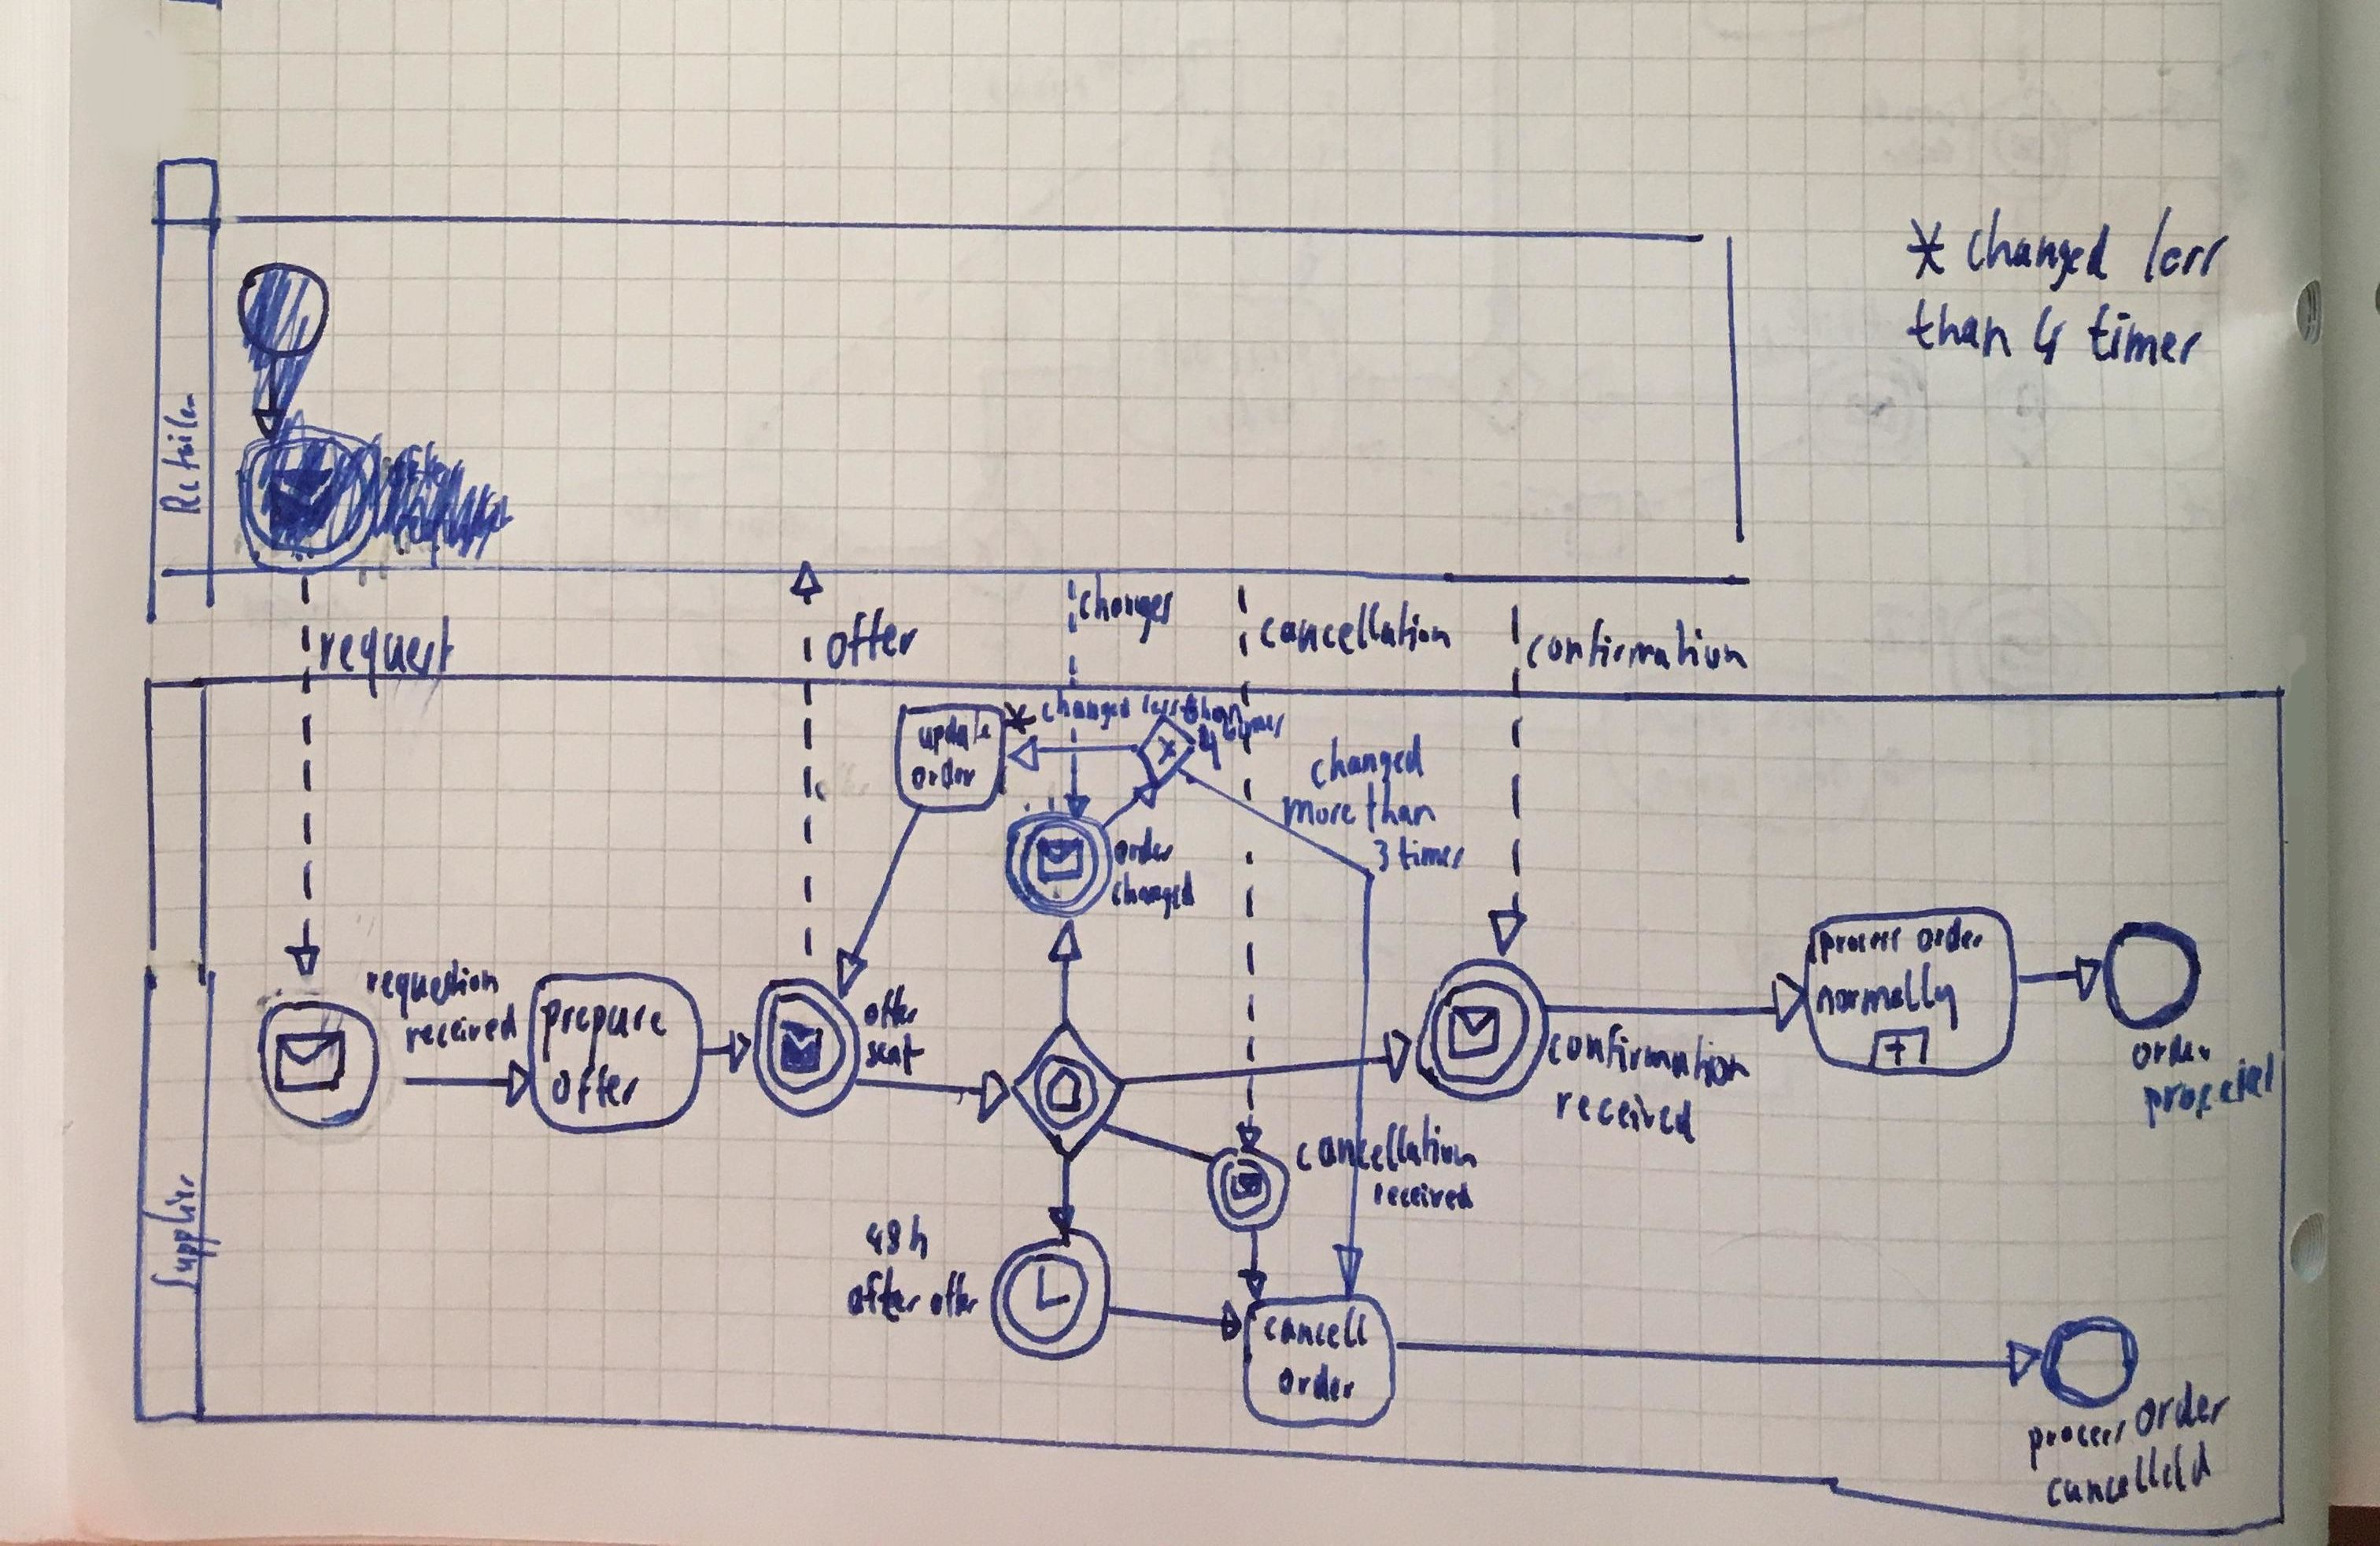*: (1903, 212, 1953, 293)
/err: (2123, 212, 2226, 290)
3: (1370, 833, 1393, 875)
4: (2028, 300, 2066, 373), (1193, 718, 1223, 781)
48h: (860, 1215, 932, 1260)
Order: (1272, 1360, 1358, 1407), (2130, 1031, 2210, 1074)
Prepare: (539, 998, 668, 1045)
Retailer: (156, 385, 205, 519)
Supplier: (149, 1178, 210, 1301)
after: (847, 1265, 919, 1319)
cancell: (1258, 1308, 1372, 1352)
cancellation: (1291, 1116, 1483, 1178), (1259, 599, 1455, 654)
cancelleld: (2042, 1435, 2219, 1515)
changed: (1962, 212, 2109, 281), (1311, 734, 1426, 783), (1102, 869, 1199, 914), (1039, 691, 1133, 725)
changes: (1077, 569, 1178, 628)
confirmation: (1549, 1020, 1752, 1086), (1528, 614, 1750, 670)
less: (1134, 691, 1183, 722)
more: (1285, 791, 1353, 831)
normally: (1816, 977, 1957, 1015)
offer: (819, 611, 919, 671), (555, 1058, 638, 1114), (921, 1270, 978, 1324), (864, 986, 923, 1025)
order: (2128, 1383, 2233, 1433), (1915, 918, 1986, 958), (907, 757, 978, 793), (1114, 826, 1174, 866)
process: (2017, 1414, 2128, 1458), (1814, 920, 1910, 965)
processed: (2137, 1050, 2290, 1128)
received: (1547, 1086, 1703, 1145), (402, 1003, 515, 1057), (1370, 1178, 1478, 1215)
request: (305, 619, 456, 678)
requestion: (357, 960, 501, 1010)
sent: (859, 1032, 921, 1076)
than: (1901, 292, 2016, 368), (1360, 791, 1436, 833), (1181, 689, 1240, 722)
timer: (2085, 298, 2203, 368)
times: (1393, 835, 1469, 873), (1219, 710, 1285, 741)
update: (918, 704, 987, 760)
